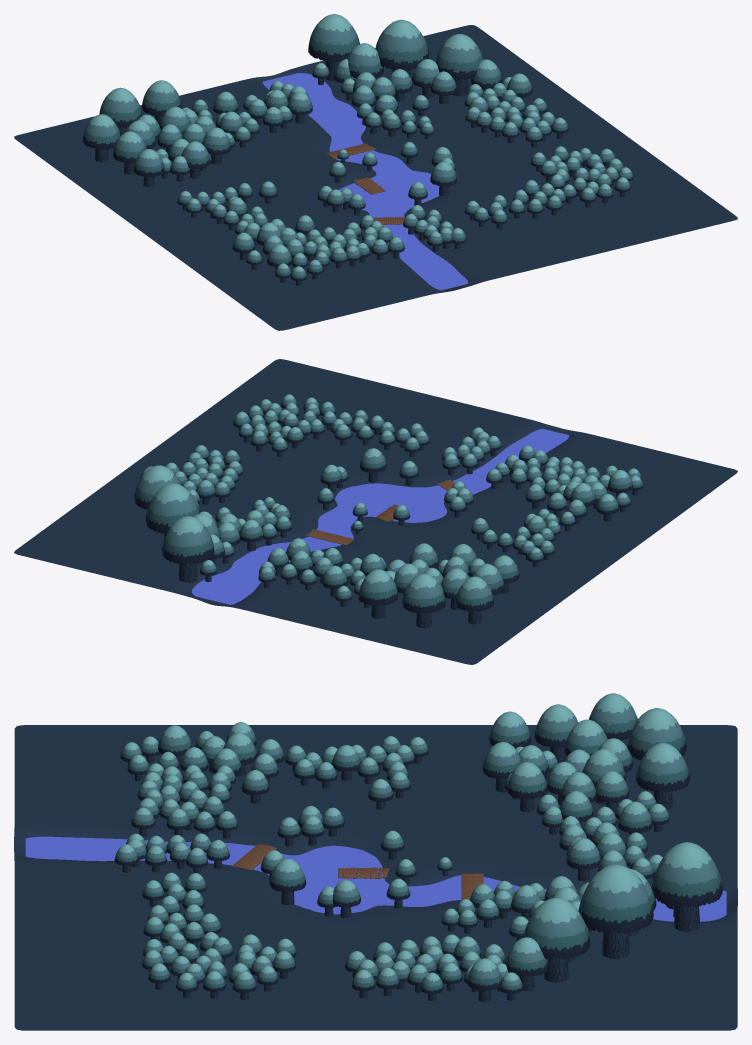
The model's file is Forest Area 1.glb.
The picture shows the model from 3 angles, top to bottom: view 1: azimuth 30°, elevation 25°; view 2: azimuth 150°, elevation 25°; view 3: azimuth 270°, elevation 25°; orthographic projection. The views are drawn at different scales.
Visible parts, largest first — view 1: Forest Area 1 Terrain, Water, Placeholder Tree.239, Placeholder Tree.170, Placeholder Tree.318, Placeholder Tree.312, Placeholder Tree.311, Placeholder Tree.313, Placeholder Tree.238, Placeholder Tree.320, Placeholder Tree.310, Placeholder Tree.160 (+8 smaller); view 2: Forest Area 1 Terrain, Water, Placeholder Tree.170, Placeholder Tree.239, Placeholder Tree.312, Placeholder Tree.313, Placeholder Tree.311, Placeholder Tree.318, Placeholder Tree.321, Placeholder Tree.296, Placeholder Tree.310, Placeholder Tree.320 (+2 smaller); view 3: Forest Area 1 Terrain, Water, Placeholder Tree.239, Placeholder Tree.170, Placeholder Tree.318, Placeholder Tree.313, Placeholder Tree.312, Placeholder Tree.311, Placeholder Tree.320, Placeholder Tree.293, Placeholder Tree.160, Placeholder Tree.228 (+18 smaller).
Boxes of the visible parts, box(x1,y1,x2,y2) form: Forest Area 1 Terrain: box(14, 25, 737, 330); Water: box(262, 73, 468, 290); Placeholder Tree.239: box(375, 19, 429, 78); Placeholder Tree.170: box(308, 14, 359, 80); Placeholder Tree.318: box(435, 34, 483, 96); Placeholder Tree.312: box(99, 87, 142, 135); Placeholder Tree.311: box(82, 114, 120, 162); Placeholder Tree.313: box(142, 80, 181, 125); Placeholder Tree.238: box(347, 43, 383, 78); Placeholder Tree.320: box(113, 131, 146, 174); Placeholder Tree.310: box(133, 149, 164, 187); Placeholder Tree.160: box(202, 127, 231, 164); Forest Area 1 Terrain: box(14, 359, 737, 664); Water: box(192, 428, 569, 604); Placeholder Tree.170: box(162, 516, 214, 582); Placeholder Tree.239: box(146, 483, 199, 540); Placeholder Tree.312: box(402, 573, 445, 628); Placeholder Tree.313: box(359, 569, 398, 618); Placeholder Tree.311: box(456, 576, 493, 624); Placeholder Tree.318: box(134, 465, 180, 509); Placeholder Tree.321: box(441, 568, 469, 610); Placeholder Tree.296: box(360, 448, 386, 482); Placeholder Tree.310: box(492, 555, 519, 593); Placeholder Tree.320: box(472, 563, 504, 595); Forest Area 1 Terrain: box(14, 725, 737, 1030); Water: box(25, 836, 726, 921); Placeholder Tree.239: box(578, 864, 653, 958); Placeholder Tree.170: box(651, 842, 722, 931); Placeholder Tree.318: box(523, 897, 590, 982); Placeholder Tree.313: box(636, 743, 689, 809); Placeholder Tree.312: box(627, 708, 686, 760); Placeholder Tree.311: box(589, 693, 637, 741); Placeholder Tree.320: box(534, 704, 578, 763); Placeholder Tree.293: box(505, 937, 548, 990); Placeholder Tree.160: box(507, 762, 547, 812); Placeholder Tree.228: box(482, 742, 520, 792).
Size of the model in its own units: 100 by 15.59 by 100.
Materials: 6 (5 with a texture image).
